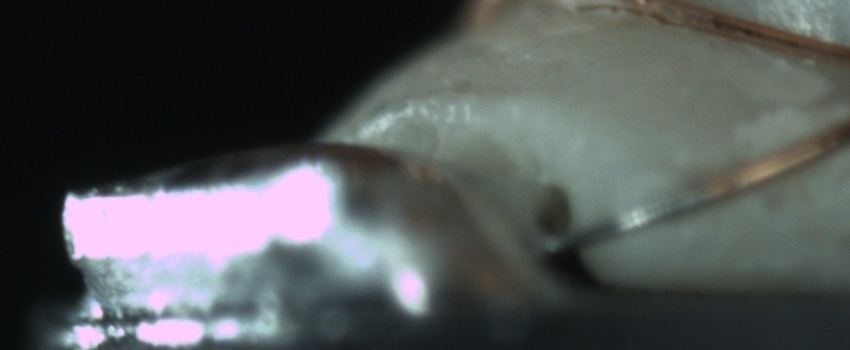TS: (538, 182, 701, 254)
